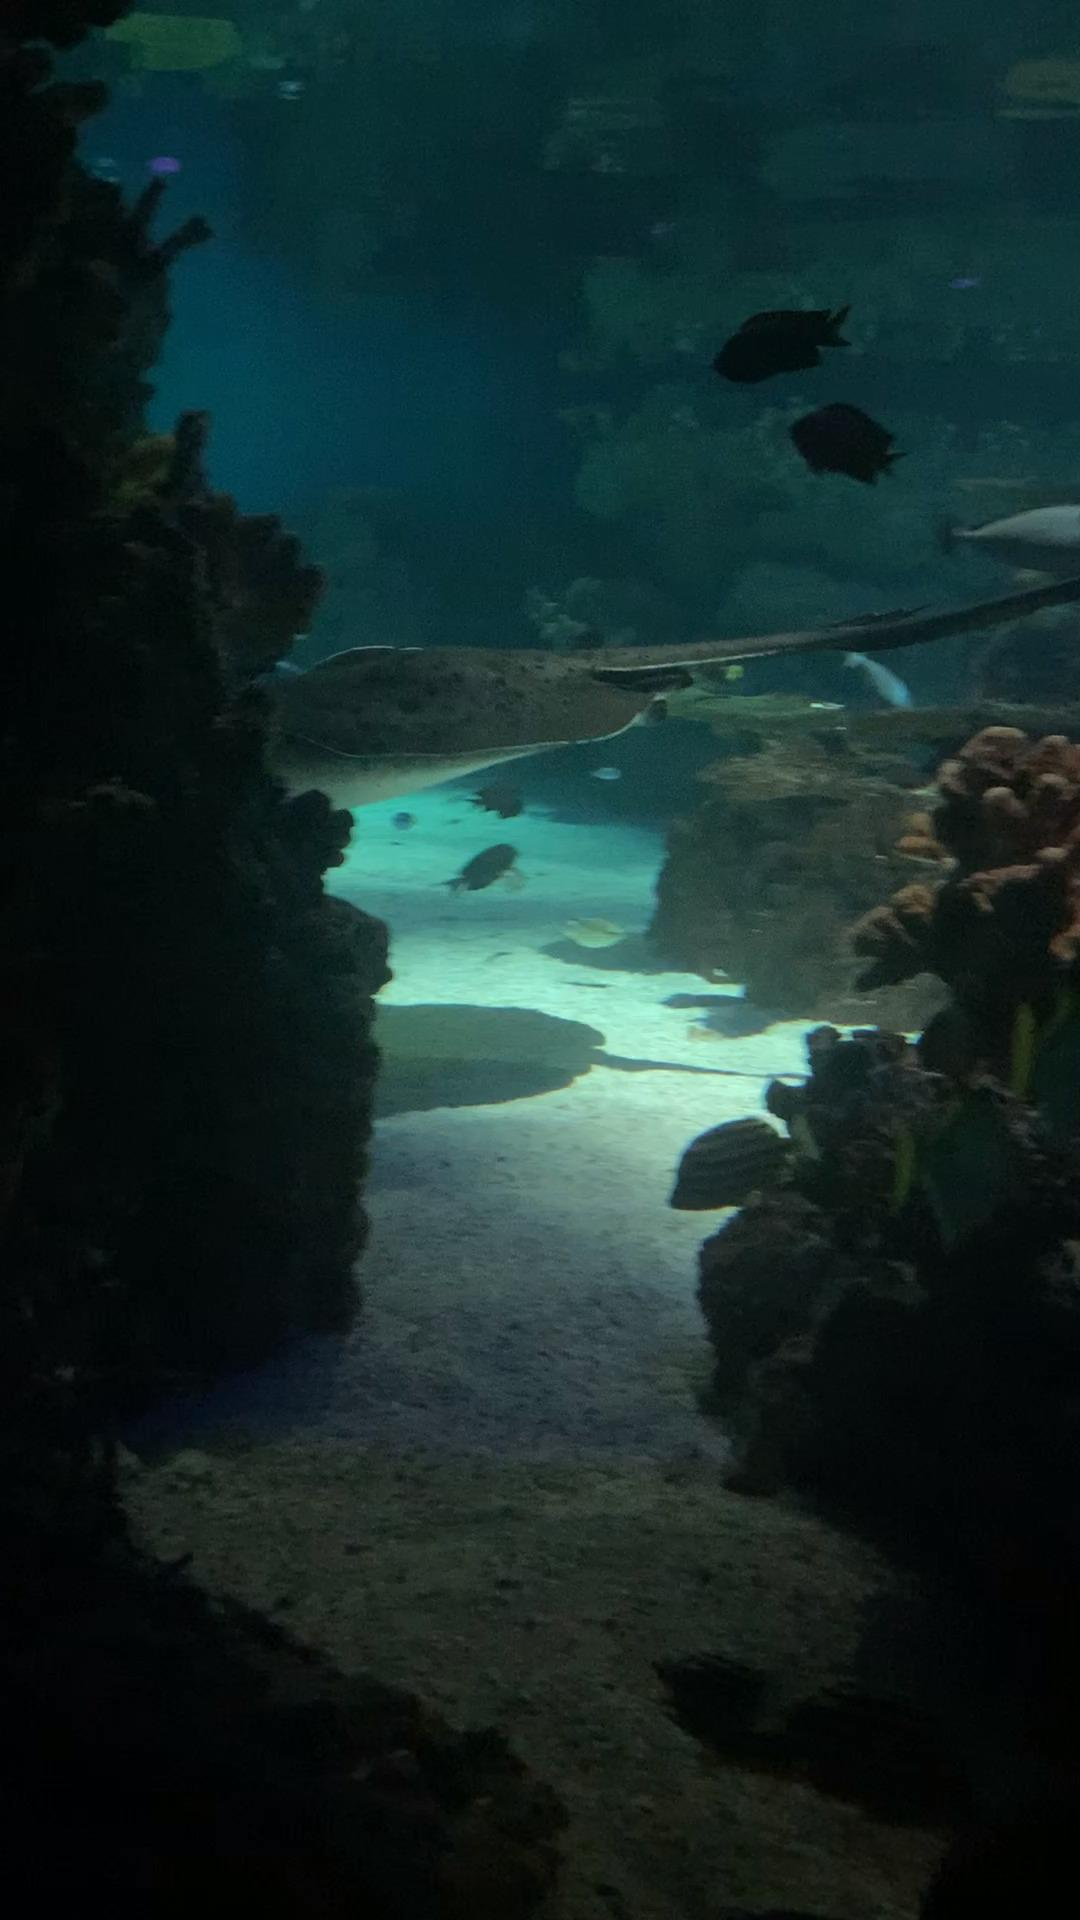fish: (891, 1091, 1022, 1238), (705, 295, 862, 393), (667, 1112, 803, 1215), (781, 394, 913, 493), (934, 493, 1080, 582), (1011, 978, 1080, 1117), (436, 837, 524, 901), (542, 905, 630, 957), (465, 775, 531, 822), (588, 767, 624, 782)
stingray: (229, 644, 661, 812)
